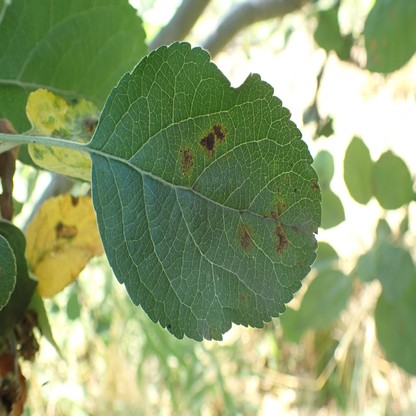powdery_mildew: (304, 217, 318, 244)
scab: (199, 123, 227, 158), (179, 145, 195, 175), (274, 222, 288, 255), (237, 226, 252, 253), (82, 117, 98, 135), (275, 197, 287, 217), (210, 326, 220, 341), (311, 180, 320, 191), (239, 294, 248, 304), (291, 224, 299, 234)
